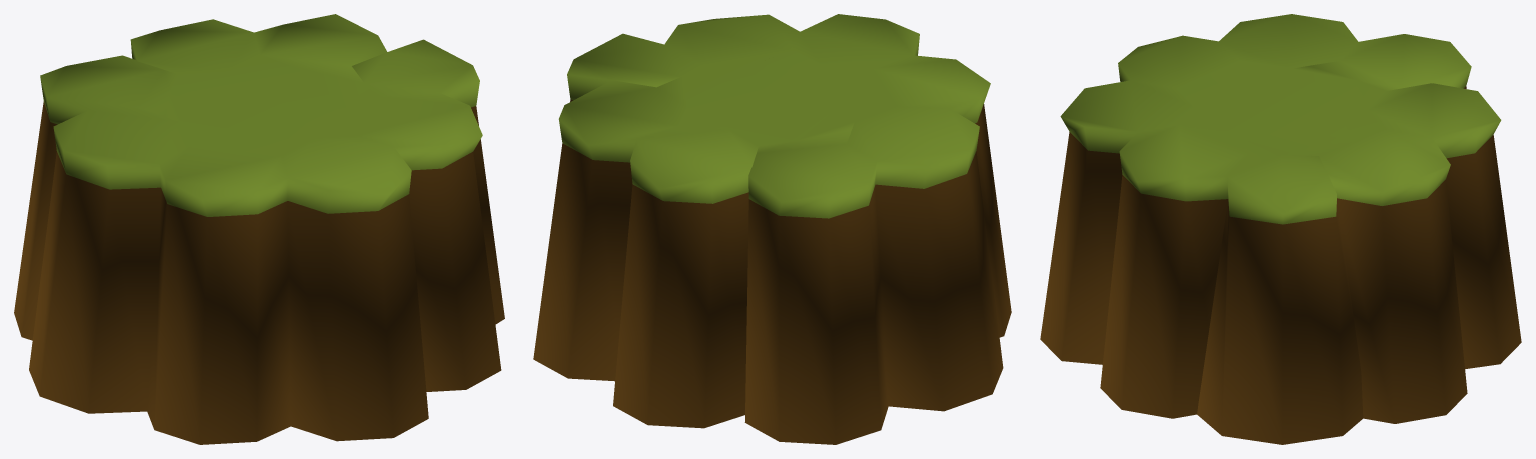
The model's file is DirtPillarWide.glb.
3 views of the same model, side by side, from view 1: azimuth 30°, elevation 25°; view 2: azimuth 150°, elevation 25°; view 3: azimuth 270°, elevation 25° (orthographic). The views are drawn at different scales.
Visible parts, largest first — view 1: DirtPillarWide; view 2: DirtPillarWide; view 3: DirtPillarWide.
Boxes of the visible parts, bbox=[...] form: DirtPillarWide: bbox=[14, 14, 504, 444]; DirtPillarWide: bbox=[533, 14, 1011, 444]; DirtPillarWide: bbox=[1040, 14, 1521, 444].
Bounding box in the file's own units: 2.62 × 1.35 × 2.53.
